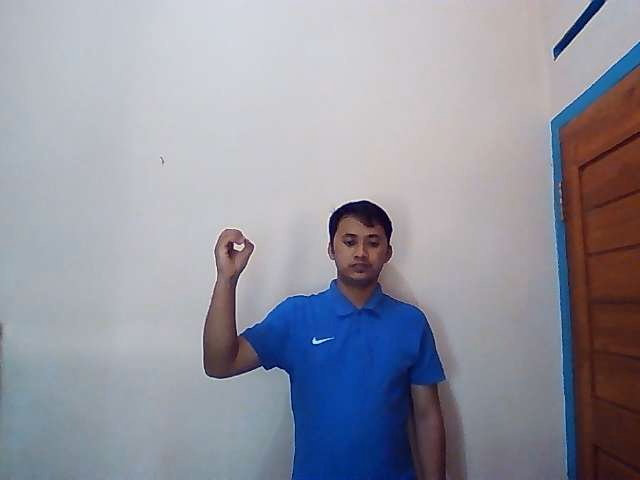O: (212, 226, 256, 280)
